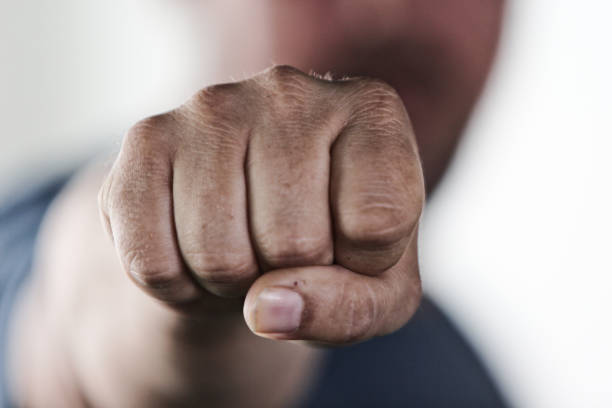Yes: (93, 49, 445, 348)
